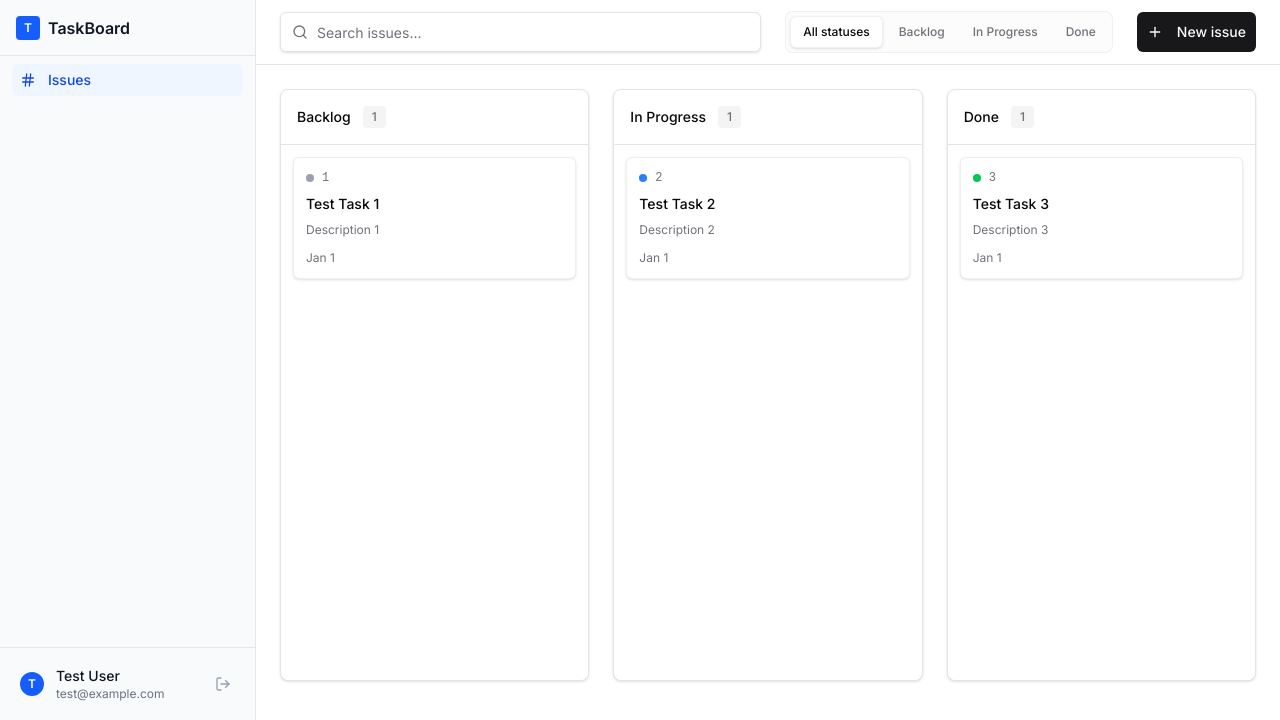
Test: TaskBoard › opens add task modal when add button is clicked
The width and height of the screenshot is (1280, 720).
Click the button "New issue" at (1196, 32), box 1137,12 -> 1256,52
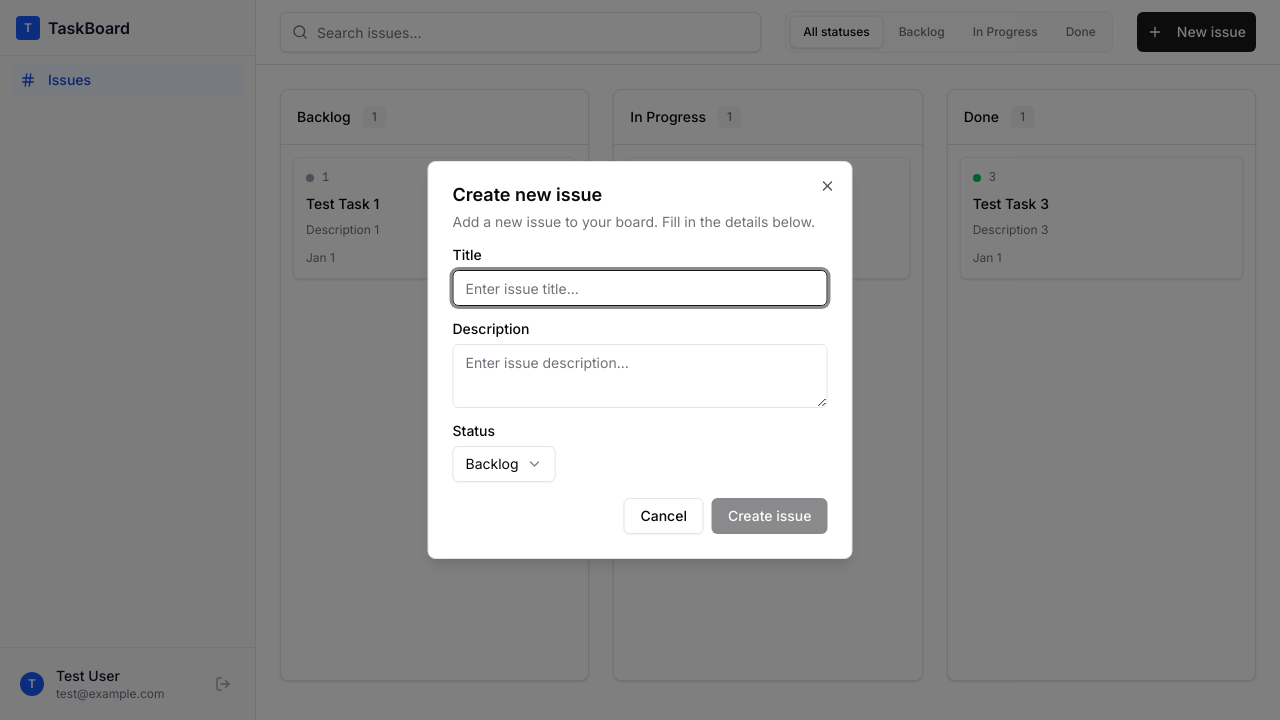
Expected: the heading "Create new issue" is shown, 452,184 -> 602,205
